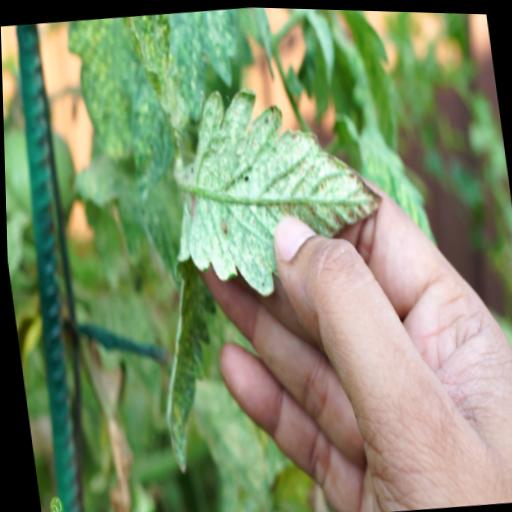Spider Mites: (152, 70, 392, 308), (139, 257, 238, 479)
